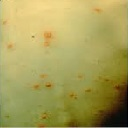Chickenpox: (33, 74, 55, 92), (103, 78, 124, 91), (41, 30, 57, 47)
